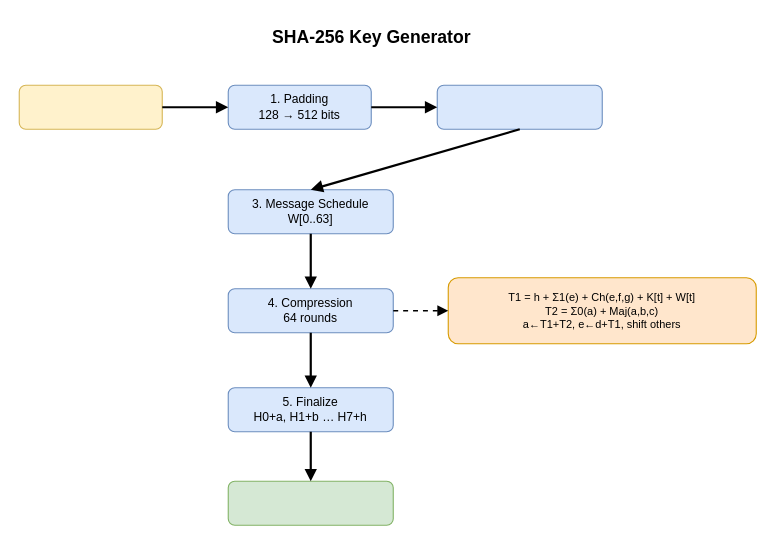
Image size: 776x545. Some labels were removed from this diagram. The box of each missing label's shape, as (x1, y1, x2, y2) in pixels:
2. Init H0–H7 (8 × 32-bit constants): (436, 84, 602, 129)
key_out[255:0]: (227, 480, 393, 525)
secret_in[127:0]: (18, 84, 162, 129)
